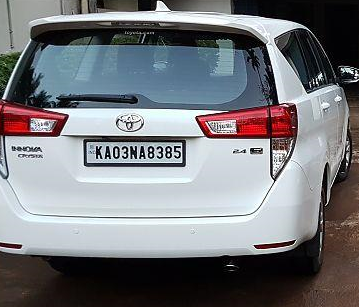number_plate: (79, 125, 198, 183)
